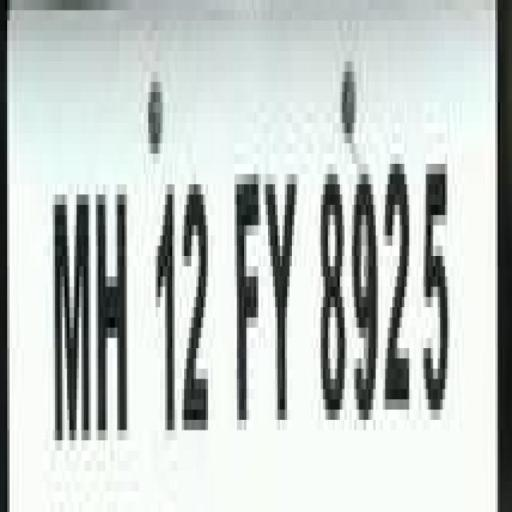number plate: (17, 10, 512, 512)
